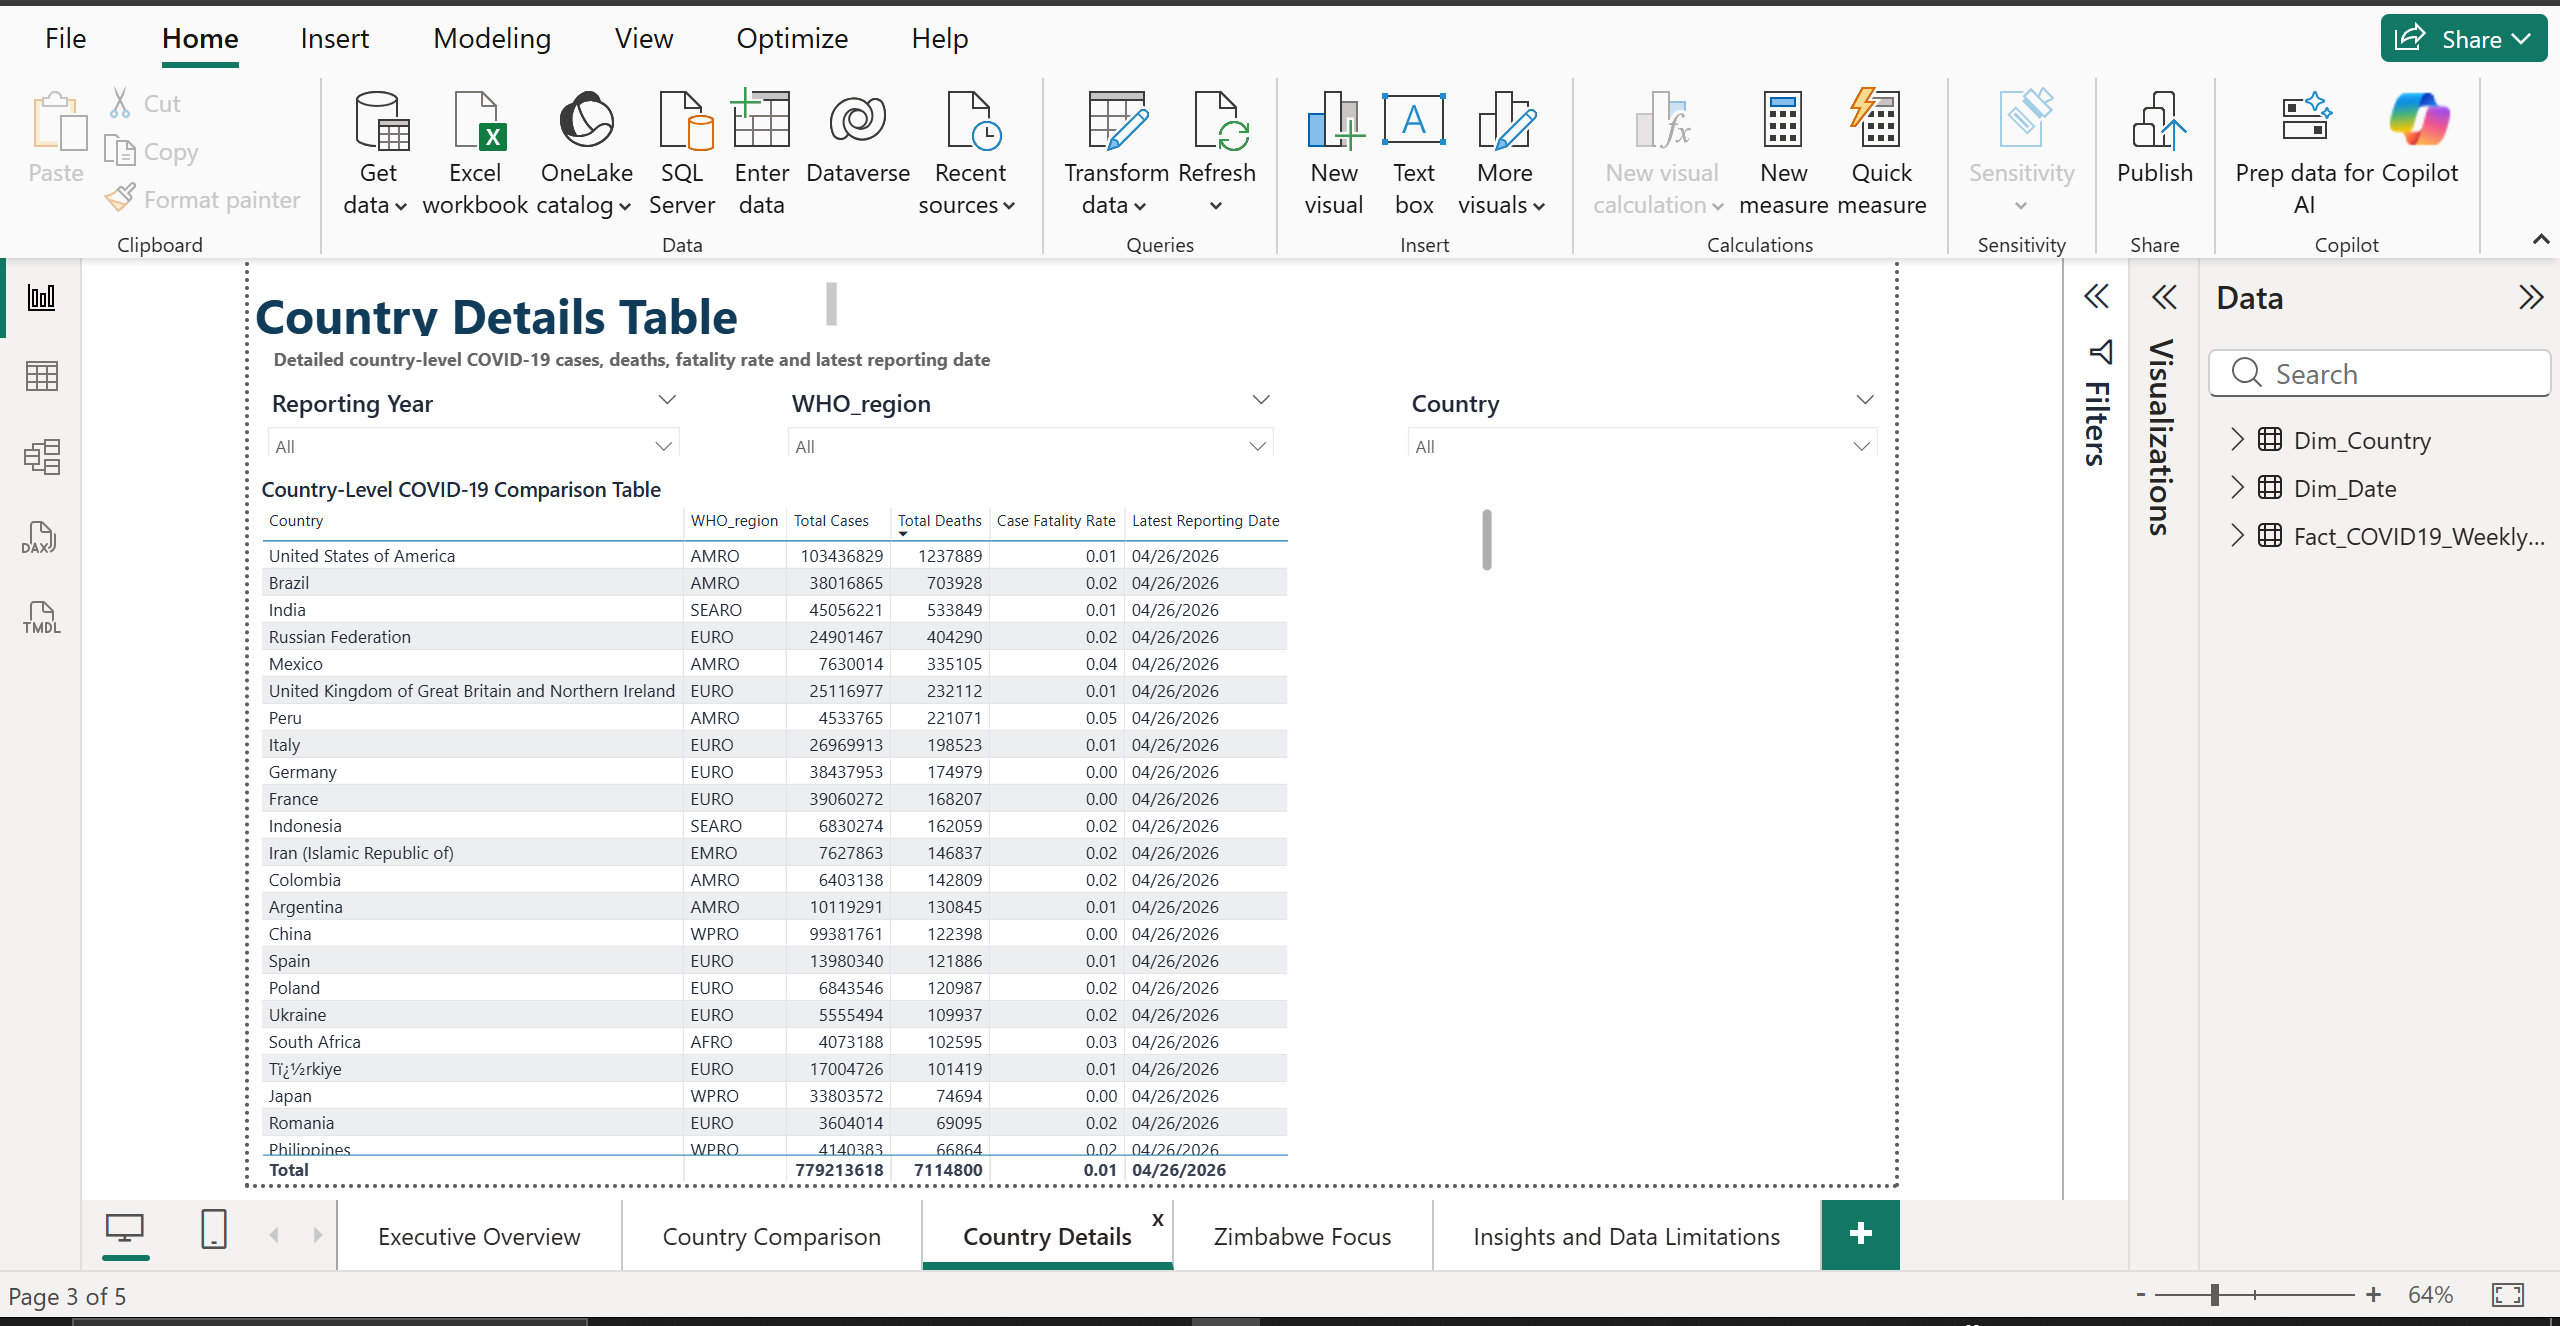

The dashboard page shown, as its layout file describes it:
{"tool":"powerbi","page":{"name":"Country Details","canvas":[1280,720],"ordinal":2},"visuals":[{"type":"tableEx","title":"Country-Level COVID-19 Comparison Table","fields":{"Values":["Fact_COVID19_Weekly_WHO.Country","Fact_COVID19_Weekly_WHO.WHO_region","Fact_COVID19_Weekly_WHO.Total Cases","Fact_COVID19_Weekly_WHO.Total Deaths","Fact_COVID19_Weekly_WHO.Case Fatality Rate","Fact_COVID19_Weekly_WHO.Latest Reporting Date"]},"box":[4.7,167.9,967.3,555.2],"z":0},{"type":"textbox","box":[0,13.3,462,51.1],"z":1000},{"type":"textbox","box":[13.3,64.4,693,32.2],"z":2000},{"type":"slicer","fields":{"Values":["Fact_COVID19_Weekly_WHO.WHO_region"]},"box":[408.2,94.9,398.1,59.1],"z":3000},{"type":"slicer","fields":{"Values":["Fact_COVID19_Weekly_WHO.Country"]},"box":[890.3,94.9,385.7,59.1],"z":4000},{"type":"slicer","fields":{"Values":["Fact_COVID19_Weekly_WHO.Year"]},"box":[5.4,94.9,340.6,59.1],"z":5000}]}

Visuals, with their boxes on the page's 1280x720 design canvas (x1, y1, x2, y2). These are canvas units, not pixel positions in the 2560x1326 screenshot, which may show the page scaled, cropped or inside an application window:
"Country-Level COVID-19 Comparison Table" tableEx: [left=5, top=168, right=972, bottom=723]
textbox: [left=0, top=13, right=462, bottom=64]
textbox: [left=13, top=64, right=706, bottom=97]
slicer - Fact_COVID19_Weekly_WHO.WHO_region: [left=408, top=95, right=806, bottom=154]
slicer - Fact_COVID19_Weekly_WHO.Country: [left=890, top=95, right=1276, bottom=154]
slicer - Fact_COVID19_Weekly_WHO.Year: [left=5, top=95, right=346, bottom=154]
